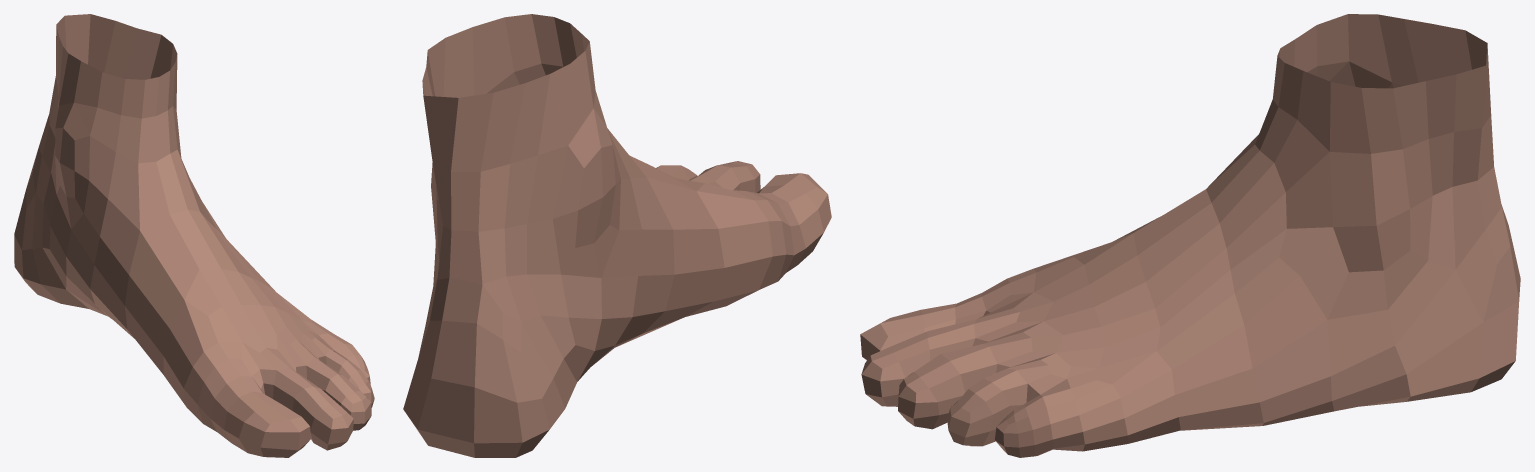
File: 0_4_FootPolygonalLeft.glb
3 renders of one model, left to right at view 1: azimuth 30°, elevation 25°; view 2: azimuth 150°, elevation 25°; view 3: azimuth 270°, elevation 25°, orthographic. The views are drawn at different scales.
Visible parts, largest first — view 1: polySurface1156.002; view 2: polySurface1156.002; view 3: polySurface1156.002.
Part boxes in pixels (x1,y1,x2,y2): polySurface1156.002: [14, 14, 374, 457]; polySurface1156.002: [403, 14, 831, 457]; polySurface1156.002: [860, 14, 1520, 457].
Bounding box in the file's own units: 0.0725 × 0.1078 × 0.1818.
